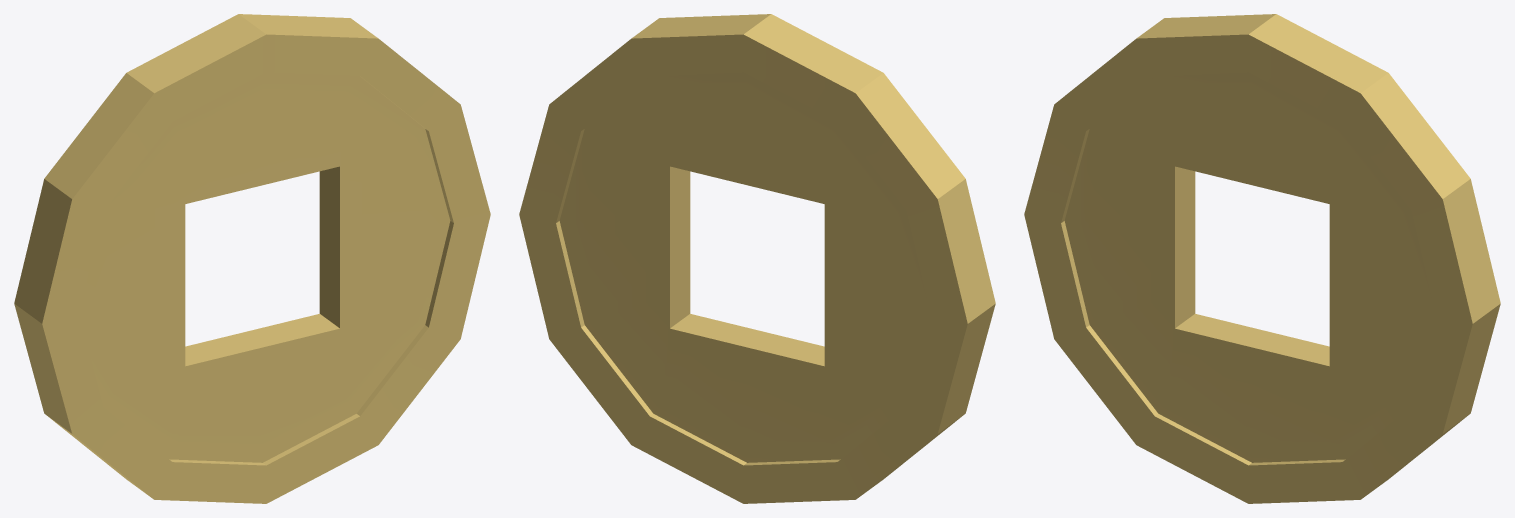
The model's file is AlekCoin.fbx.
The picture shows the model from 3 angles, left to right: view 1: azimuth 30°, elevation 25°; view 2: azimuth 150°, elevation 25°; view 3: azimuth 330°, elevation 25°; orthographic projection.
Parts seen in each view (by area): view 1: pCylinder4; view 2: pCylinder4; view 3: pCylinder4.
Boxes of the visible parts, x1=… form: pCylinder4: x1=14, y1=14, x2=490, y2=503; pCylinder4: x1=519, y1=14, x2=995, y2=503; pCylinder4: x1=1024, y1=14, x2=1500, y2=503.
Size of the model in its own units: 2 by 2 by 0.2162.
